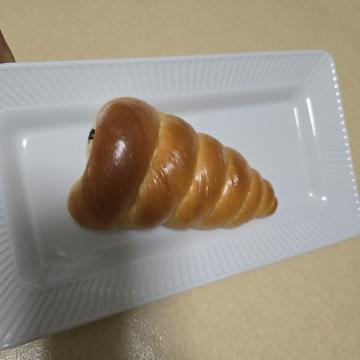cream horn: (87, 75, 255, 310)
